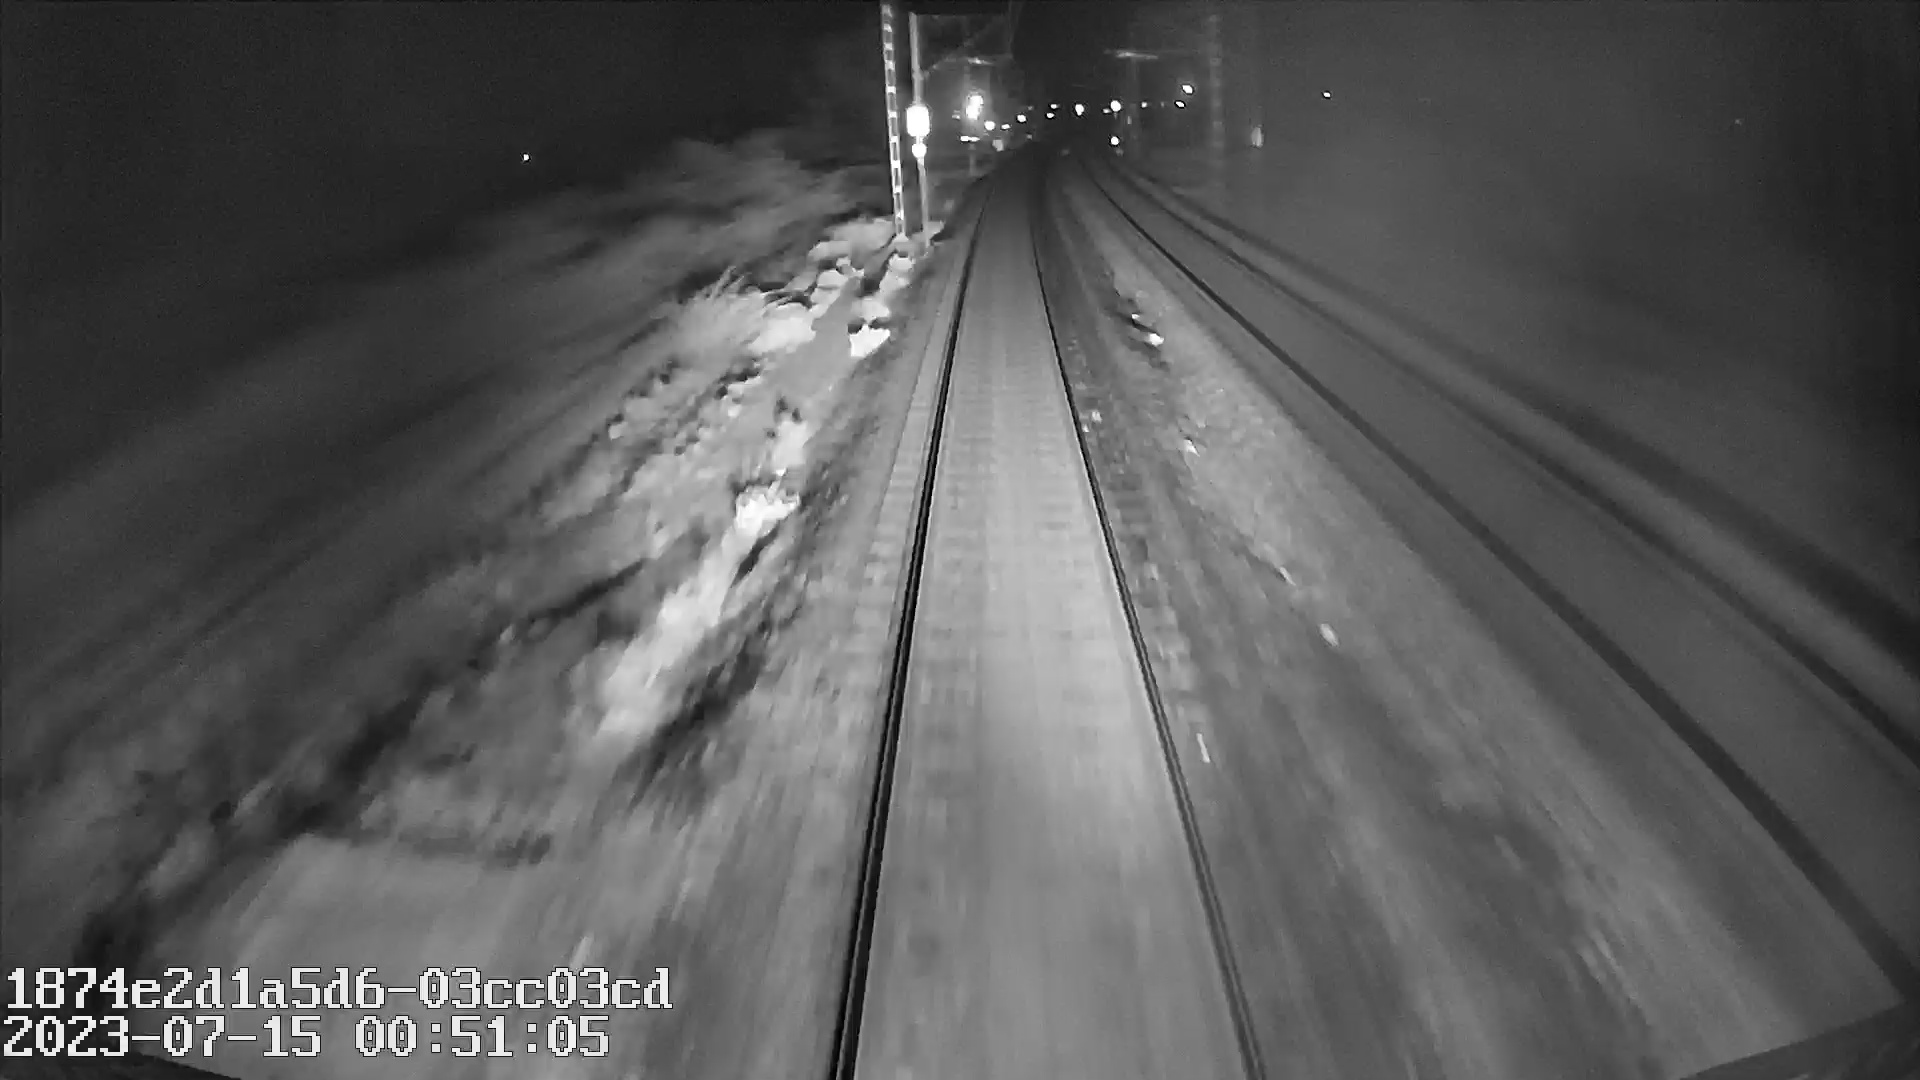track1: (848, 247, 1255, 1068)
track2: (1141, 220, 1905, 881)
